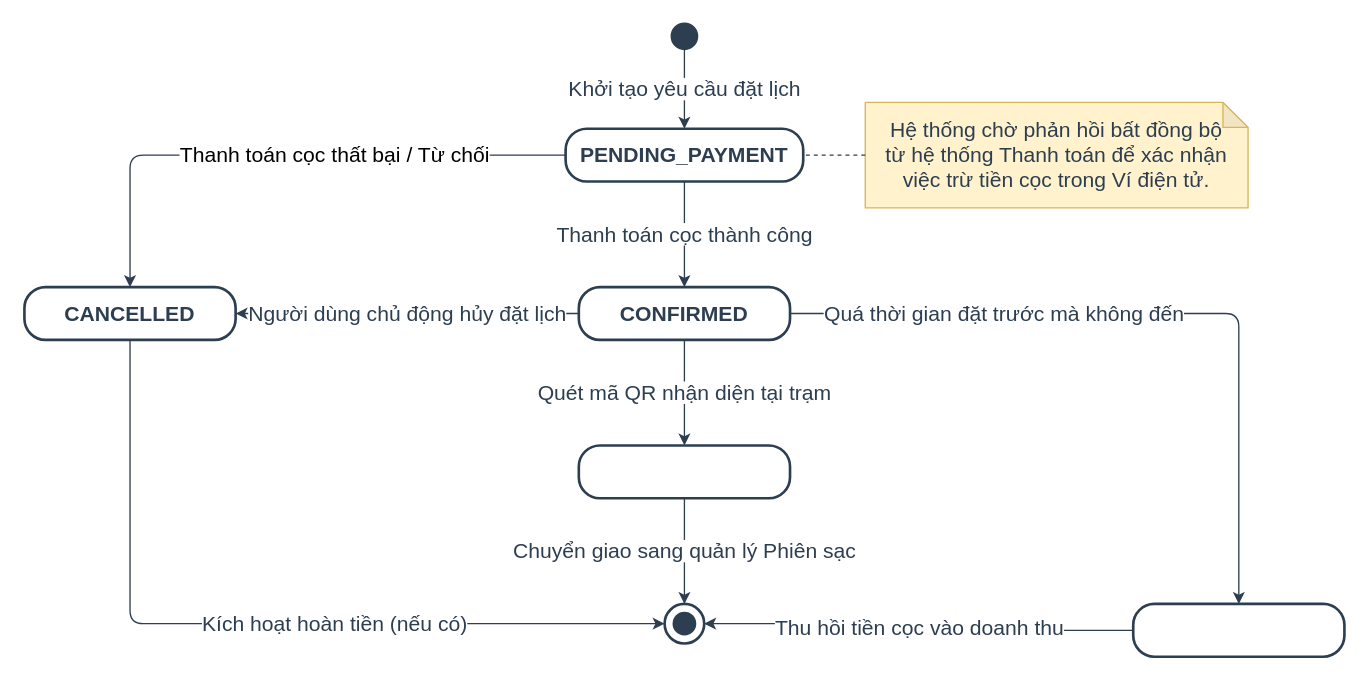
Image size: 1368x681. Some labels were removed from this diagram. The shapes that lost their labels are listed below. From the top down, each one's centre as x and y in pixels, then its label:
the point at 684,471: COMPLETED
the point at 1238,629: EXPIRED
